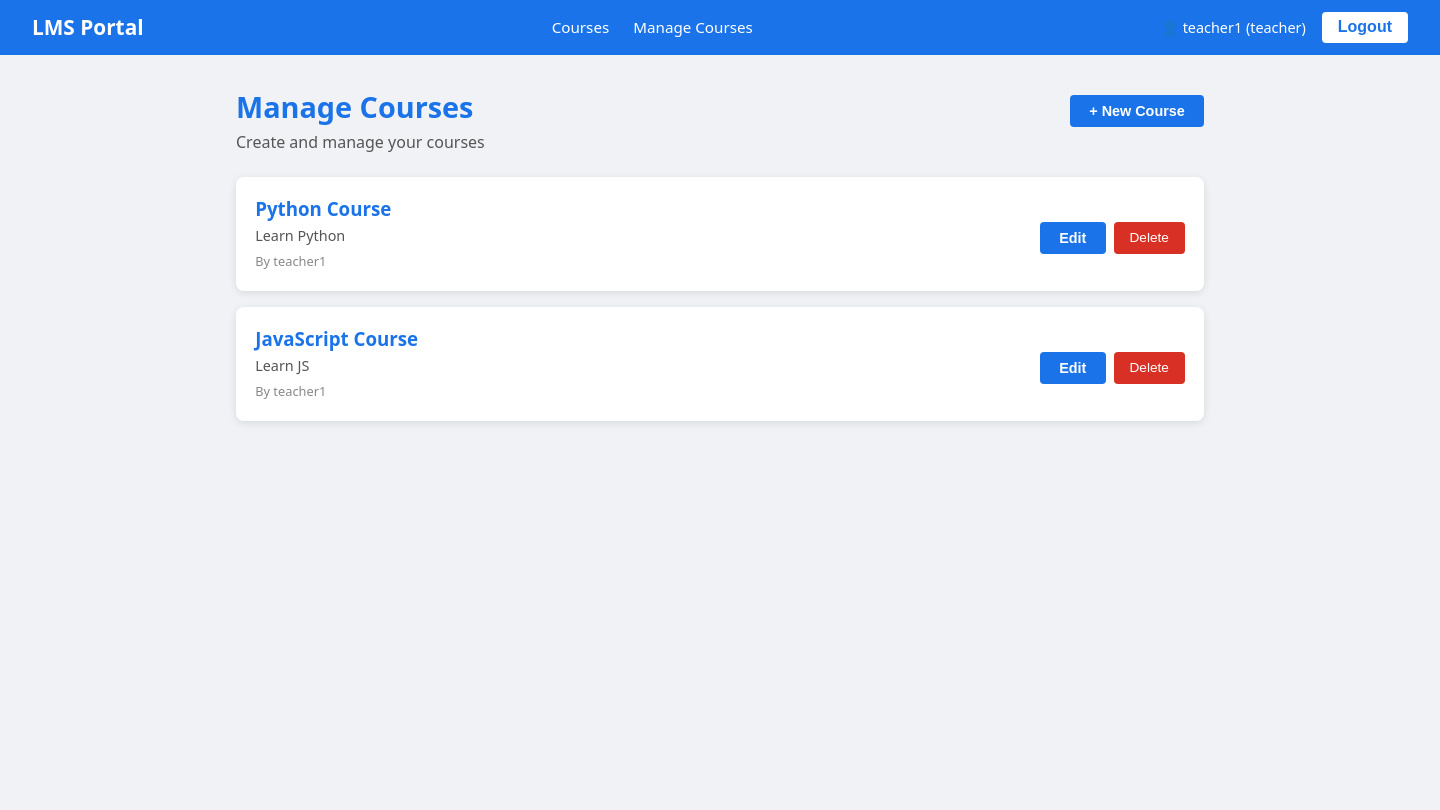
it: ManageCourses Page › shows edit form when edit button clicked
Click the button "Edit" in the row of "Learn Python".
click(1073, 238)  # box x1=1040 y1=222 x2=1106 y2=254
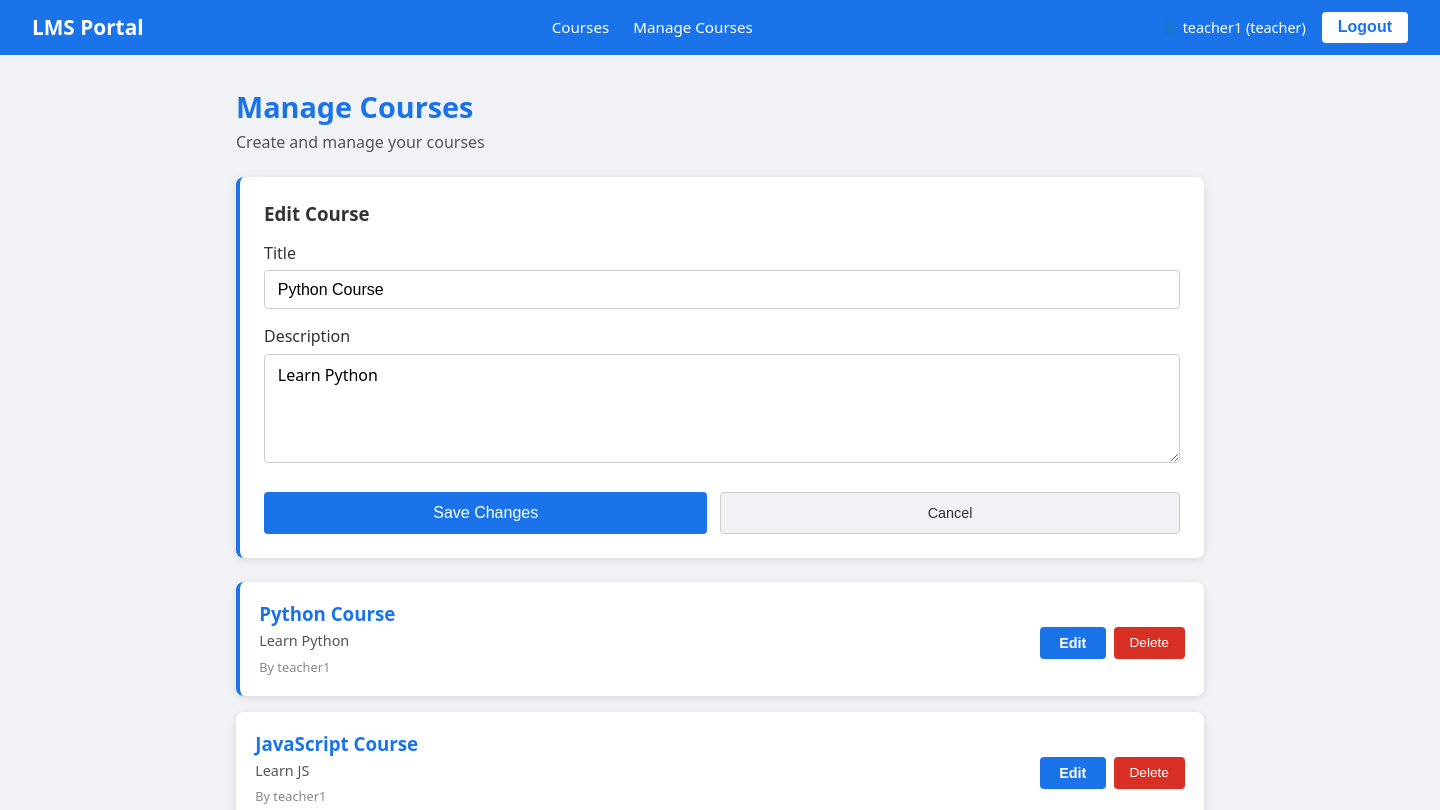
Now the heading "Edit Course" is shown, box x1=264 y1=201 x2=370 y2=226
